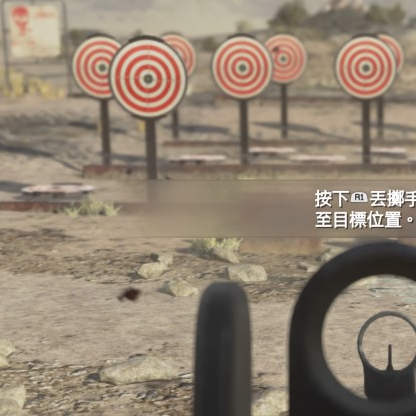target: (107, 35, 189, 120), (332, 34, 397, 102), (210, 34, 273, 101), (69, 34, 106, 101)
